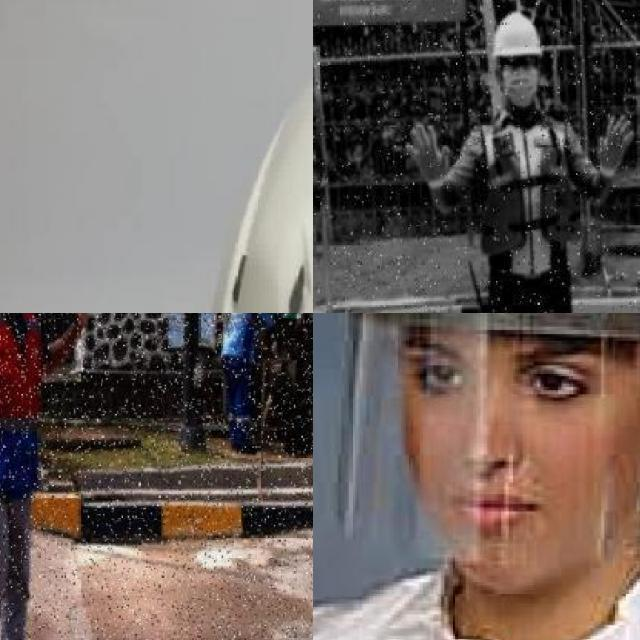apron: (402, 121, 453, 192), (592, 112, 637, 180)
